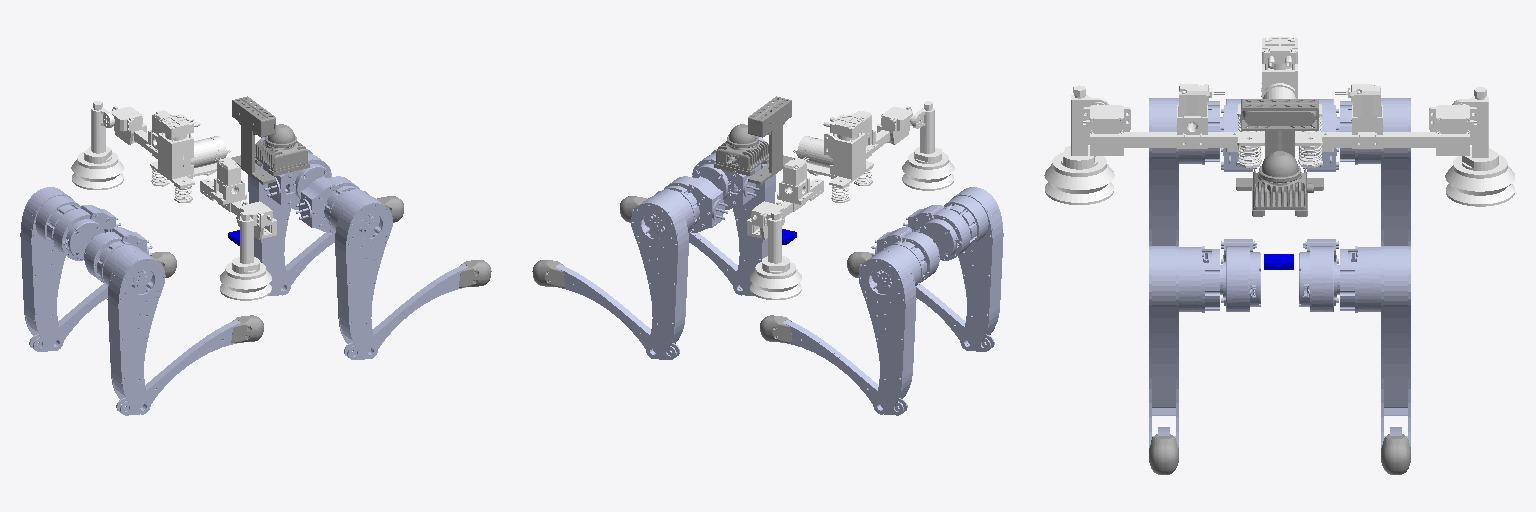
robot.urdf — dog_t:
<?xml version="1.0" encoding="utf-8"?>
<robot name="dog_t">
  <!-- ============ Materials ============ -->
  <material name="black"><color rgba="0.10196 0.10196 0.10196 1"/></material>
  <material name="silver"><color rgba="0.79216 0.81961 0.93333 1"/></material>
  <material name="gray"><color rgba="0.69804 0.69804 0.69804 1"/></material>
  <material name="white"><color rgba="1 1 1 1"/></material>
  <material name="blue"><color rgba="0 0 1 1"/></material>

  <!-- ============ Base ============ -->
  <link name="base">
    <inertial>
      <origin xyz="-0.00291825653449281 8.30990239752086E-06 0.00190096477433133" rpy="0 0 0"/>
      <mass value="5.0"/>
      <inertia ixx="0.008287596317455301" ixy="4.5333547663035056e-06" ixz="8.294298652599954e-06"
               iyy="0.026002970244409212" iyz="6.570159206239479e-19" izz="0.030394342292371222"/>
    </inertial>
    <visual>
      <origin xyz="0 0 0" rpy="0 0 0"/>
      <geometry>
        <mesh filename="../meshes/base.STL"/>
      </geometry>
      <material name="black"/>
    </visual>
    <collision>
      <origin xyz="0 0 0" rpy="0 0 0"/>
      <geometry>
        <box size="0.3062 0.0935 0.104"/>
      </geometry>
    </collision>
  </link>

  <!-- ============ IMU Link ============ -->
  <joint name="imu_joint" type="fixed" dont_collapse="true">
    <origin xyz="0.057561 -0.0015639 -0.045474" rpy="0 0 0"/>
    <parent link="base"/>
    <child link="imu"/>
    <axis xyz="0 0 0"/>
  </joint>
  <link name="imu">
    <inertial>
      <origin xyz="-0.000268184864282345 1.39561200067939E-05 -4.63274528676727E-07" rpy="0 0 0"/>
      <mass value="0.0103267107406631"/>
      <inertia ixx="1.20259330249884E-06" ixy="-4.8485570778122E-13" ixz="-1.36183648989154E-11"
               iyy="6.35828771011343E-07" iyz="-7.40462538464237E-12" izz="1.69450816786057E-06"/>
    </inertial>
    <visual>
      <origin xyz="0 0 0" rpy="0 0 0"/>
      <geometry>
        <mesh filename="../meshes/imu.STL"/>
      </geometry>
      <material name="blue"/>
    </visual>
  </link>

  <!-- ============ Radar Link ============ -->
  <joint name="radar_joint" type="fixed">
    <origin xyz="0.1335 0 0.12212" rpy="0 0 0"/>
    <parent link="base"/>
    <child link="radar"/>
    <axis xyz="0 0 0"/>
  </joint>
  <link name="radar">
    <inertial>
      <origin xyz="1.98146963882317E-05 0.000180550711363823 -0.030189041989644" rpy="0 0 0"/>
      <mass value="0.4"/>
      <inertia ixx="0.00013831122039981267" ixy="-1.4333451896725566e-08" ixz="3.267457209798748e-09"
               iyy="0.00012001440188189757" iyz="7.785784089975925e-07" izz="0.00021192430563791596"/>
    </inertial>
    <visual>
      <origin xyz="0 0 0" rpy="0 0 0"/>
      <geometry>
        <mesh filename="../meshes/radar.STL"/>
      </geometry>
      <material name="gray"/>
    </visual>
    <collision>
      <origin xyz="0 0 -0.035" rpy="0 0 0"/>
      <geometry>
        <box size="0.055 0.055 0.025"/>
      </geometry>
    </collision>
    <collision>
      <origin xyz="0 0 -0.013" rpy="0 0 0"/>
      <geometry>
        <sphere radius="0.023"/>
      </geometry>
    </collision>
  </link>

  <!-- ============ Camera Link ============ -->
  <joint name="camera_joint" type="fixed">
    <origin xyz="0.0839967270324333 -0.000205831685175599 0.161320063786762" rpy="0 0 0"/>
    <parent link="base"/>
    <child link="camera"/>
    <axis xyz="0 0 0"/>
  </joint>
  <link name="camera">
    <inertial>
      <origin xyz="-0.00270689522582726 1.98460482673936E-05 -0.0145674658321956" rpy="0 0 0"/>
      <mass value="0.151728648619625"/>
      <inertia ixx="0.000162119144800329" ixy="2.40593299709258E-07" ixz="-7.45704434147819E-07"
               iyy="7.72798730028196E-05" iyz="1.60522419540625E-06" izz="9.70134936308606E-05"/>
    </inertial>
    <visual>
      <origin xyz="0 0 0" rpy="0 0 0"/>
      <geometry>
        <mesh filename="../meshes/camera.STL"/>
      </geometry>
      <material name="gray"/>
    </visual>
    <collision>
      <origin xyz="0 0 -0.003" rpy="0 0 0"/>
      <geometry>
        <box size="0.026 0.09 0.025"/>
      </geometry>
    </collision>
  </link>

  <!-- ============ Pump Link ============ -->
  <joint name="pump_joint" type="fixed">
    <origin xyz="-0.026003 0 0.09732" rpy="0 0 0"/>
    <parent link="base"/>
    <child link="pump"/>
    <axis xyz="0 0 0"/>
  </joint>
  <link name="pump">
    <inertial>
      <origin xyz="-0.0176739823125588 3.67607391992755E-05 -0.0108755418993036" rpy="0 0 0"/>
      <mass value="0.831139054175458"/>
      <inertia ixx="0.000397296302420083" ixy="1.09050973473831E-06" ixz="-1.54584411915128E-07"
               iyy="0.000356958676570571" iyz="4.99522621593097E-07" izz="0.000457901643271839"/>
    </inertial>
    <visual>
      <origin xyz="0 0 0" rpy="0 0 0"/>
      <geometry>
        <mesh filename="../meshes/pump.STL"/>
      </geometry>
      <material name="white"/>
    </visual>
    <collision>
      <origin xyz="0.02 0 0.025" rpy="0 1.5708 0"/>
      <geometry>
        <cylinder length="0.05" radius="0.02"/>
      </geometry>
    </collision>
    <collision>
      <origin xyz="-0.03 0.0 0.041" rpy="0 0 0"/>
      <geometry>
        <box size="0.034 0.045 0.09"/>
      </geometry>
    </collision>
    <collision>
      <origin xyz="-0.04 0.24 -0.046" rpy="0 0 1.5708"/>
      <geometry>
        <cylinder length="0.13" radius="0.04"/>
      </geometry>
    </collision>
    <collision>
      <origin xyz="-0.04 -0.24 -0.046" rpy="0 0 1.5708"/>
      <geometry>
        <cylinder length="0.13" radius="0.04"/>
      </geometry>
    </collision>
  </link>

  <!-- ==================== FL Leg ==================== -->
  <link name="FL_hip">
    <inertial>
      <origin xyz="-0.010697 -0.0033174 3.5324E-18" rpy="0 0 0"/>
      <mass value="0.33292"/>
      <inertia ixx="0.0001789" ixy="-1.0761E-05" ixz="-1.0819E-20"
               iyy="0.0003417" iyz="1.4246E-20" izz="0.00025417"/>
    </inertial>
    <visual>
      <origin xyz="0 0 0" rpy="0 0 0"/>
      <geometry>
        <mesh filename="../meshes/FL_hip.STL"/>
      </geometry>
      <material name="silver"/>
    </visual>
    <collision>
      <origin xyz="0 0.045 0" rpy="1.5708 0 0"/>
      <geometry>
        <cylinder length="0.04" radius="0.04"/>
      </geometry>
    </collision>
  </link>

  <joint name="FL_hip_joint" type="revolute">
    <origin xyz="0.208696726956794 0.0502499999999962 0.00132006393254207" rpy="0 0 0"/>
    <parent link="base"/>
    <child link="FL_hip"/>
    <axis xyz="-1 0 0"/>
    <limit lower="-1.05" upper="1.05" effort="17" velocity="21.6"/>
  </joint>

  <link name="FL_thigh">
    <inertial>
      <origin xyz="-0.0069171 -0.014196 -0.040905" rpy="0 0 0"/>
      <mass value="1.5467"/>
      <inertia ixx="0.0064369" ixy="-0.00015187" ixz="0.00066183"
               iyy="0.0062486" iyz="-0.00089812" izz="0.0014778"/>
    </inertial>
    <visual>
      <origin xyz="0 0 0" rpy="0 0 0"/>
      <geometry>
        <mesh filename="../meshes/FL_thigh.STL"/>
      </geometry>
      <material name="silver"/>
    </visual>
    <collision>
      <origin xyz="0 0 -0.075" rpy="0 1.5708 0"/>
      <geometry>
        <box size="0.15 0.0245 0.034"/>
      </geometry>
    </collision>
  </link>

  <joint name="FL_thigh_joint" type="revolute">
    <origin xyz="0 0.0930000000000059 0" rpy="0 0 0"/>
    <parent link="FL_hip"/>
    <child link="FL_thigh"/>
    <axis xyz="0 -1 0"/>
    <limit lower="-1.57" upper="3.49" effort="17" velocity="21.6"/>
  </joint>

  <link name="FL_calf">
    <inertial>
      <origin xyz="0.012446 6.1697E-10 -0.11689" rpy="0 0 0"/>
      <mass value="0.1266"/>
      <inertia ixx="0.00089879" ixy="-1.6714E-11" ixz="-3.7677E-05"
               iyy="0.0009089" iyz="4.713E-12" izz="1.8028E-05"/>
    </inertial>
    <visual>
      <origin xyz="0 0 0" rpy="0 0 0"/>
      <geometry>
        <mesh filename="../meshes/FL_calf.STL"/>
      </geometry>
      <material name="silver"/>
    </visual>
    <collision>
      <origin xyz="0 0 -0.07" rpy="0 1.5708 0"/>
      <geometry>
        <box size="0.14 0.016 0.016"/>
      </geometry>
    </collision>
  </link>

  <joint name="FL_calf_joint" type="revolute">
    <origin xyz="0 -0.00450000000000009 -0.219999293579269" rpy="0 0 0"/>
    <parent link="FL_thigh"/>
    <child link="FL_calf"/>
    <axis xyz="0 1 0"/>
    <limit lower="-2.72" upper="-1.2" effort="25.5" velocity="14.4"/>
  </joint>

  <link name="FL_foot">
    <inertial>
      <origin xyz="-1.5361E-11 9.9171E-11 9.5637E-11" rpy="0 0 0"/>
      <mass value="0.03385"/>
      <inertia ixx="4.3616E-06" ixy="1.5524E-12" ixz="-9.2947E-07"
               iyy="4.8375E-06" iyz="-7.5217E-13" izz="5.3891E-06"/>
    </inertial>
    <visual>
      <origin xyz="0 0 0" rpy="0 0 0"/>
      <geometry>
        <mesh filename="../meshes/FL_foot.STL"/>
      </geometry>
      <material name="gray"/>
    </visual>
    <collision>
      <origin xyz="0 0 0" rpy="0 0 0"/>
      <geometry>
        <sphere radius="0.02"/>
      </geometry>
    </collision>
  </link>

  <joint name="FL_foot_joint" type="fixed" dont_collapse="true">
    <origin xyz="-0.00528281797050001 0 -0.22822614052568" rpy="0 0 0"/>
    <parent link="FL_calf"/>
    <child link="FL_foot"/>
    <axis xyz="0 0 0"/>
  </joint>

  <!-- ==================== FR Leg ==================== -->
  <link name="FR_hip">
    <inertial>
      <origin xyz="-0.010697 0.0033174 -5.3064E-18" rpy="0 0 0"/>
      <mass value="0.33292"/>
      <inertia ixx="0.0001789" ixy="1.0761E-05" ixz="2.9382E-20"
               iyy="0.0003417" iyz="1.7422E-20" izz="0.00025417"/>
    </inertial>
    <visual>
      <origin xyz="0 0 0" rpy="0 0 0"/>
      <geometry>
        <mesh filename="../meshes/FR_hip.STL"/>
      </geometry>
      <material name="silver"/>
    </visual>
    <collision>
      <origin xyz="0 -0.045 0" rpy="1.5708 0 0"/>
      <geometry>
        <cylinder length="0.04" radius="0.04"/>
      </geometry>
    </collision>
  </link>

  <joint name="FR_hip_joint" type="revolute">
    <origin xyz="0.208696726956795 -0.0502499999999945 0.00132006364098379" rpy="0 0 0"/>
    <parent link="base"/>
    <child link="FR_hip"/>
    <axis xyz="-1 0 0"/>
    <limit lower="-1.05" upper="1.05" effort="17" velocity="21.6"/>
  </joint>

  <link name="FR_thigh">
    <inertial>
      <origin xyz="-0.0069171 0.014196 -0.040905" rpy="0 0 0"/>
      <mass value="1.5467"/>
      <inertia ixx="0.0064369" ixy="0.00015187" ixz="0.00066183"
               iyy="0.0062486" iyz="0.00089812" izz="0.0014778"/>
    </inertial>
    <visual>
      <origin xyz="0 0.093 0" rpy="0 0 0"/>
      <geometry>
        <mesh filename="../meshes/FR_thigh.STL"/>
      </geometry>
      <material name="silver"/>
    </visual>
    <collision>
      <origin xyz="0 0 -0.075" rpy="0 1.5708 0"/>
      <geometry>
        <box size="0.15 0.0245 0.034"/>
      </geometry>
    </collision>
  </link>

  <joint name="FR_thigh_joint" type="revolute">
    <origin xyz="0 -0.0930000000000059 0" rpy="0 0 0"/>
    <parent link="FR_hip"/>
    <child link="FR_thigh"/>
    <axis xyz="0 1 0"/>
    <limit lower="-1.57" upper="3.49" effort="17" velocity="21.6"/>
  </joint>

  <link name="FR_calf">
    <inertial>
      <origin xyz="0.012446 6.1697E-10 -0.11689" rpy="0 0 0"/>
      <mass value="0.1266"/>
      <inertia ixx="0.00089879" ixy="-1.6714E-11" ixz="-3.7677E-05"
               iyy="0.0009089" iyz="4.713E-12" izz="1.8028E-05"/>
    </inertial>
    <visual>
      <origin xyz="0 0 0" rpy="0 0 0"/>
      <geometry>
        <mesh filename="../meshes/FR_calf.STL"/>
      </geometry>
      <material name="silver"/>
    </visual>
    <collision>
      <origin xyz="0 0 -0.07" rpy="0 1.5708 0"/>
      <geometry>
        <box size="0.14 0.016 0.016"/>
      </geometry>
    </collision>
  </link>

  <joint name="FR_calf_joint" type="revolute">
    <origin xyz="0 0.00449999999999984 -0.219999999854218" rpy="0 0 0"/>
    <parent link="FR_thigh"/>
    <child link="FR_calf"/>
    <axis xyz="0 -1 0"/>
    <limit lower="1.2" upper="2.72" effort="25.5" velocity="14.4"/>
  </joint>

  <link name="FR_foot">
    <inertial>
      <origin xyz="-6.8027E-11 1.2695E-10 2.7911E-11" rpy="0 0 0"/>
      <mass value="0.03385"/>
      <inertia ixx="4.3616E-06" ixy="1.5049E-12" ixz="-9.2947E-07"
               iyy="4.8375E-06" iyz="-7.2331E-13" izz="5.3891E-06"/>
    </inertial>
    <visual>
      <origin xyz="0 0 0" rpy="0 0 0"/>
      <geometry>
        <mesh filename="../meshes/FR_foot.STL"/>
      </geometry>
      <material name="gray"/>
    </visual>
    <collision>
      <origin xyz="0 0 0" rpy="0 0 0"/>
      <geometry>
        <sphere radius="0.02"/>
      </geometry>
    </collision>
  </link>

  <joint name="FR_foot_joint" type="fixed" dont_collapse="true">
    <origin xyz="-0.00528281797049959 0 -0.228226140525678" rpy="0 0 0"/>
    <parent link="FR_calf"/>
    <child link="FR_foot"/>
    <axis xyz="0 0 0"/>
  </joint>

  <!-- ==================== RR Leg ==================== -->
  <link name="RR_hip">
    <inertial>
      <origin xyz="0.010697 0.0033174 6.5589E-19" rpy="0 0 0"/>
      <mass value="0.33292"/>
      <inertia ixx="0.0001789" ixy="-1.0761E-05" ixz="3.9204E-21"
               iyy="0.0003417" iyz="-7.4276E-21" izz="0.00025417"/>
    </inertial>
    <visual>
      <origin xyz="0 0 0" rpy="0 0 0"/>
      <geometry>
        <mesh filename="../meshes/RR_hip.STL"/>
      </geometry>
      <material name="silver"/>
    </visual>
    <collision>
      <origin xyz="0 -0.045 0" rpy="1.5708 0 0"/>
      <geometry>
        <cylinder length="0.04" radius="0.04"/>
      </geometry>
    </collision>
  </link>

  <joint name="RR_hip_joint" type="revolute">
    <origin xyz="-0.210103272891928 -0.0502499999999989 0.00132006393254348" rpy="0 0 0"/>
    <parent link="base"/>
    <child link="RR_hip"/>
    <axis xyz="1 0 0"/>
    <limit lower="-1.05" upper="1.05" effort="17" velocity="21.6"/>
  </joint>

  <link name="RR_thigh">
    <inertial>
      <origin xyz="-0.0069171 0.014196 -0.040905" rpy="0 0 0"/>
      <mass value="1.5467"/>
      <inertia ixx="0.0064369" ixy="0.00015187" ixz="0.00066183"
               iyy="0.0062486" iyz="0.00089812" izz="0.0014778"/>
    </inertial>
    <visual>
      <origin xyz="0 0 0" rpy="0 0 0"/>
      <geometry>
        <mesh filename="../meshes/RR_thigh.STL"/>
      </geometry>
      <material name="silver"/>
    </visual>
    <collision>
      <origin xyz="0 0 -0.075" rpy="0 1.5708 0"/>
      <geometry>
        <box size="0.15 0.0245 0.034"/>
      </geometry>
    </collision>
  </link>

  <joint name="RR_thigh_joint" type="revolute">
    <origin xyz="0 -0.0930000000000059 0" rpy="0 0 0"/>
    <parent link="RR_hip"/>
    <child link="RR_thigh"/>
    <axis xyz="0 1 0"/>
    <limit lower="-1.57" upper="3.49" effort="17" velocity="21.6"/>
  </joint>

  <link name="RR_calf">
    <inertial>
      <origin xyz="0.012446 6.1697E-10 -0.11689" rpy="0 0 0"/>
      <mass value="0.1266"/>
      <inertia ixx="0.00089879" ixy="-1.6714E-11" ixz="-3.7677E-05"
               iyy="0.0009089" iyz="4.713E-12" izz="1.8028E-05"/>
    </inertial>
    <visual>
      <origin xyz="0 0 0" rpy="0 0 0"/>
      <geometry>
        <mesh filename="../meshes/RR_calf.STL"/>
      </geometry>
      <material name="silver"/>
    </visual>
    <collision>
      <origin xyz="0 0 -0.07" rpy="0 1.5708 0"/>
      <geometry>
        <box size="0.14 0.016 0.016"/>
      </geometry>
    </collision>
  </link>

  <joint name="RR_calf_joint" type="revolute">
    <origin xyz="0 0.00449999999999984 -0.219998164652689" rpy="0 0 0"/>
    <parent link="RR_thigh"/>
    <child link="RR_calf"/>
    <axis xyz="0 -1 0"/>
    <limit lower="1.2" upper="2.72" effort="25.5" velocity="14.4"/>
  </joint>

  <link name="RR_foot">
    <inertial>
      <origin xyz="-6.8027E-11 1.2695E-10 2.7911E-11" rpy="0 0 0"/>
      <mass value="0.03385"/>
      <inertia ixx="4.3616E-06" ixy="1.5049E-12" ixz="-9.2947E-07"
               iyy="4.8375E-06" iyz="-7.2331E-13" izz="5.3891E-06"/>
    </inertial>
    <visual>
      <origin xyz="0 0 0" rpy="0 0 0"/>
      <geometry>
        <mesh filename="../meshes/RR_foot.STL"/>
      </geometry>
      <material name="gray"/>
    </visual>
    <collision>
      <origin xyz="0 0 0" rpy="0 0 0"/>
      <geometry>
        <sphere radius="0.02"/>
      </geometry>
    </collision>
  </link>

  <joint name="RR_foot_joint" type="fixed" dont_collapse="true">
    <origin xyz="-0.00528281797050001 0 -0.22822614052568" rpy="0 0 0"/>
    <parent link="RR_calf"/>
    <child link="RR_foot"/>
    <axis xyz="0 0 0"/>
  </joint>

  <!-- ==================== RL Leg ==================== -->
  <link name="RL_hip">
    <inertial>
      <origin xyz="0.010697 -0.0033174 3.7675E-19" rpy="0 0 0"/>
      <mass value="0.33292"/>
      <inertia ixx="0.0001789" ixy="1.0761E-05" ixz="-6.6841E-21"
               iyy="0.0003417" iyz="-2.6358E-21" izz="0.00025417"/>
    </inertial>
    <visual>
      <origin xyz="0 0 0" rpy="0 0 0"/>
      <geometry>
        <mesh filename="../meshes/RL_hip.STL"/>
      </geometry>
      <material name="silver"/>
    </visual>
    <collision>
      <origin xyz="0 0.045 0" rpy="1.5708 0 0"/>
      <geometry>
        <cylinder length="0.04" radius="0.04"/>
      </geometry>
    </collision>
  </link>

  <joint name="RL_hip_joint" type="revolute">
    <origin xyz="-0.2101 0.05025 0.0013201" rpy="0 0 0"/>
    <parent link="base"/>
    <child link="RL_hip"/>
    <axis xyz="1 0 0"/>
    <limit lower="-1.05" upper="1.05" effort="17" velocity="21.6"/>
  </joint>

  <link name="RL_thigh">
    <inertial>
      <origin xyz="-0.0069171 -0.014196 -0.040905" rpy="0 0 0"/>
      <mass value="1.5467"/>
      <inertia ixx="0.0064369" ixy="-0.00015187" ixz="0.00066183"
               iyy="0.0062486" iyz="-0.00089812" izz="0.0014778"/>
    </inertial>
    <visual>
      <origin xyz="0 0 0" rpy="0 0 0"/>
      <geometry>
        <mesh filename="../meshes/RL_thigh.STL"/>
      </geometry>
      <material name="silver"/>
    </visual>
    <collision>
      <origin xyz="0 0 -0.075" rpy="0 1.5708 0"/>
      <geometry>
        <box size="0.15 0.0245 0.034"/>
      </geometry>
    </collision>
  </link>

  <joint name="RL_thigh_joint" type="revolute">
    <origin xyz="0 0.093 0" rpy="0 0 0"/>
    <parent link="RL_hip"/>
    <child link="RL_thigh"/>
    <axis xyz="0 -1 0"/>
    <limit lower="-1.57" upper="3.49" effort="17" velocity="21.6"/>
  </joint>

  <link name="RL_calf">
    <inertial>
      <origin xyz="0.012446 6.1697E-10 -0.11689" rpy="0 0 0"/>
      <mass value="0.1266"/>
      <inertia ixx="0.00089879" ixy="-1.6714E-11" ixz="-3.7677E-05"
               iyy="0.0009089" iyz="4.713E-12" izz="1.8028E-05"/>
    </inertial>
    <visual>
      <origin xyz="0 0 0" rpy="0 0 0"/>
      <geometry>
        <mesh filename="../meshes/RL_calf.STL"/>
      </geometry>
      <material name="silver"/>
    </visual>
    <collision>
      <origin xyz="0 0 -0.07" rpy="0 1.5708 0"/>
      <geometry>
        <box size="0.14 0.016 0.016"/>
      </geometry>
    </collision>
  </link>

  <joint name="RL_calf_joint" type="revolute">
    <origin xyz="0 -0.0045 -0.22" rpy="0 0 0"/>
    <parent link="RL_thigh"/>
    <child link="RL_calf"/>
    <axis xyz="0 1 0"/>
    <limit lower="-2.72" upper="-1.2" effort="25.5" velocity="14.4"/>
  </joint>

  <link name="RL_foot">
    <inertial>
      <origin xyz="-5.3573E-06 8.9644E-11 0" rpy="0 0 0"/>
      <mass value="0.03385"/>
      <inertia ixx="4.3616E-06" ixy="1.5512E-12" ixz="-9.2947E-07"
               iyy="4.8375E-06" iyz="-7.5287E-13" izz="5.3891E-06"/>
    </inertial>
    <visual>
      <origin xyz="0 0 0" rpy="0 0 0"/>
      <geometry>
        <mesh filename="../meshes/RL_foot.STL"/>
      </geometry>
      <material name="gray"/>
    </visual>
    <collision>
      <origin xyz="0 0 0" rpy="0 0 0"/>
      <geometry>
        <sphere radius="0.02"/>
      </geometry>
    </collision>
  </link>

  <joint name="RL_foot_joint" type="fixed" dont_collapse="true">
    <origin xyz="-0.0052828 0 -0.22823" rpy="0 0 0"/>
    <parent link="RL_calf"/>
    <child link="RL_foot"/>
    <axis xyz="0 0 0"/>
  </joint>

</robot>

--- Facts derived from the render (not from the file) ---
The picture shows the robot from 3 angles, left to right: view 1: azimuth 30°, elevation 25°; view 2: azimuth 150°, elevation 25°; view 3: azimuth 270°, elevation 25°; orthographic projection.
Robot: dog_t — 21 links, 20 joints (12 revolute, 8 fixed); root link base; default pose: all joints at 0 but 4 set to mid-range because 0 is outside their limits (FL_calf_joint = -1.96, FR_calf_joint = 1.96, RR_calf_joint = 1.96, RL_calf_joint = -1.96).
Links seen in each view (by area): view 1: pump, FR_thigh, RR_thigh, RL_thigh, FL_thigh, RL_hip, camera, RR_calf, FR_calf, radar, FL_hip, FR_hip (+5 smaller); view 2: pump, FL_thigh, RL_thigh, RR_thigh, FR_thigh, RR_hip, camera, radar, FL_calf, RL_calf, FR_hip, FL_hip (+5 smaller); view 3: pump, FR_thigh, FL_thigh, RR_thigh, RL_thigh, camera, radar, FL_hip, FR_hip, FL_foot, FR_foot, RL_hip (+1 smaller).
Link boxes in pixels (left/top/right/bottom): pump: left=71, top=101, right=276, bottom=300; FR_thigh: left=324, top=186, right=392, bottom=358; RR_thigh: left=97, top=241, right=165, bottom=414; RL_thigh: left=20, top=187, right=80, bottom=350; FL_thigh: left=248, top=137, right=312, bottom=295; RL_hip: left=53, top=205, right=120, bottom=260; camera: left=231, top=96, right=275, bottom=184; RR_calf: left=116, top=320, right=240, bottom=415; FR_calf: left=344, top=264, right=467, bottom=359; radar: left=255, top=124, right=309, bottom=175; FL_hip: left=264, top=153, right=331, bottom=209; FR_hip: left=296, top=176, right=359, bottom=232; pump: left=747, top=101, right=954, bottom=299; FL_thigh: left=631, top=186, right=699, bottom=358; RL_thigh: left=858, top=241, right=926, bottom=414; RR_thigh: left=943, top=187, right=1003, bottom=350; FR_thigh: left=711, top=137, right=775, bottom=295; RR_hip: left=903, top=205, right=970, bottom=260; camera: left=748, top=96, right=792, bottom=184; radar: left=714, top=124, right=768, bottom=175; FL_calf: left=556, top=264, right=679, bottom=359; RL_calf: left=783, top=320, right=907, bottom=415; FR_hip: left=692, top=153, right=759, bottom=209; FL_hip: left=664, top=176, right=727, bottom=232; pump: left=1044, top=37, right=1514, bottom=206; FR_thigh: left=1149, top=246, right=1222, bottom=447; FL_thigh: left=1337, top=246, right=1410, bottom=447; RR_thigh: left=1149, top=98, right=1222, bottom=245; RL_thigh: left=1337, top=98, right=1410, bottom=245; camera: left=1236, top=99, right=1323, bottom=190; radar: left=1252, top=151, right=1313, bottom=216; FL_hip: left=1299, top=239, right=1338, bottom=311; FR_hip: left=1221, top=239, right=1260, bottom=311; FL_foot: left=1381, top=434, right=1410, bottom=474; FR_foot: left=1149, top=434, right=1178, bottom=474; RL_hip: left=1299, top=99, right=1338, bottom=171.
Bounding box of the posed robot: 0.6936 × 0.5631 × 0.4224 m (x, y, z).
Meshes: 21 distinct files referenced, 20 mesh visuals loaded (20 binary STL); not drawn: 1 (reference not matched to a file when rendering).
